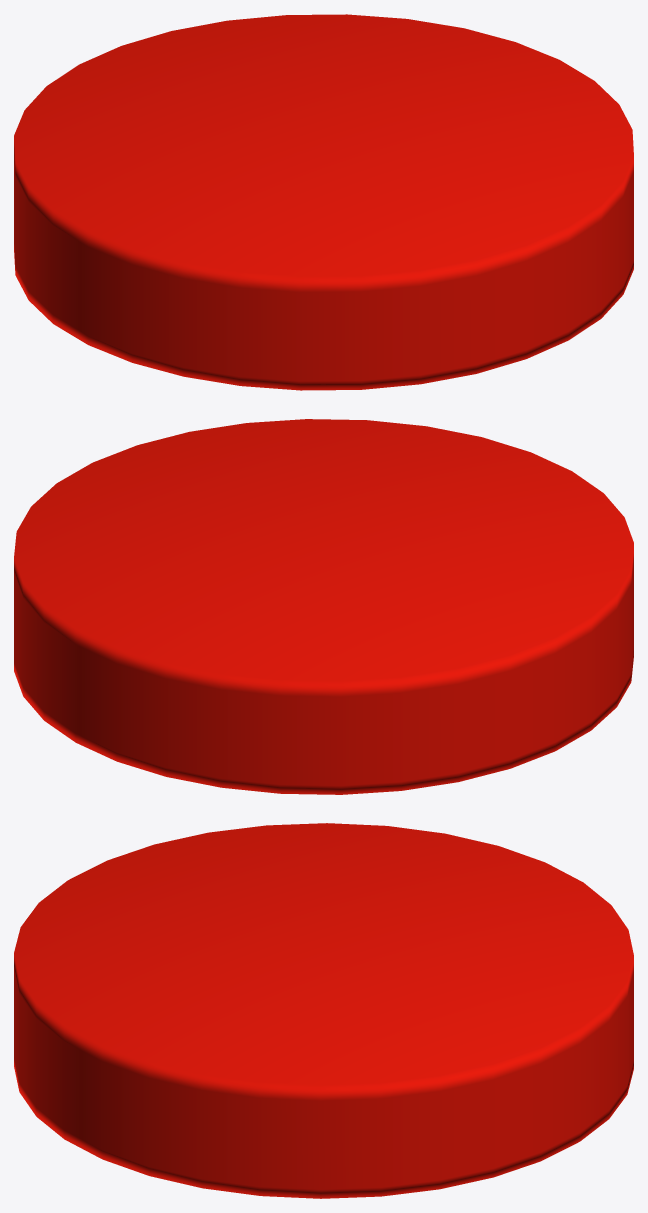
The model's file is WEB3_ROADMAP_BUTTON.gltf.
3 views of the same model, one above another, from view 1: azimuth 30°, elevation 25°; view 2: azimuth 150°, elevation 25°; view 3: azimuth 270°, elevation 25° (orthographic).
Parts seen in each view (by area): view 1: Cylinder.001; view 2: Cylinder.001; view 3: Cylinder.001.
Part boxes in pixels (x1=…): Cylinder.001: x1=14, y1=14, x2=633, y2=390; Cylinder.001: x1=14, y1=419, x2=633, y2=794; Cylinder.001: x1=14, y1=823, x2=633, y2=1198.
Bounding box in the file's own units: 1.05 × 0.2131 × 1.05.
